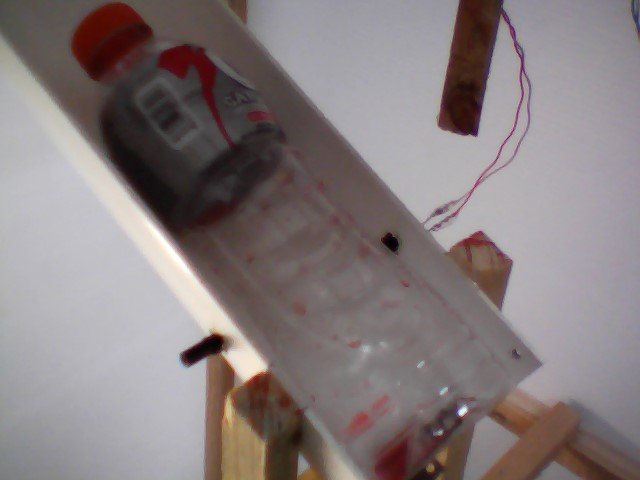plastico: (66, 1, 513, 478)
